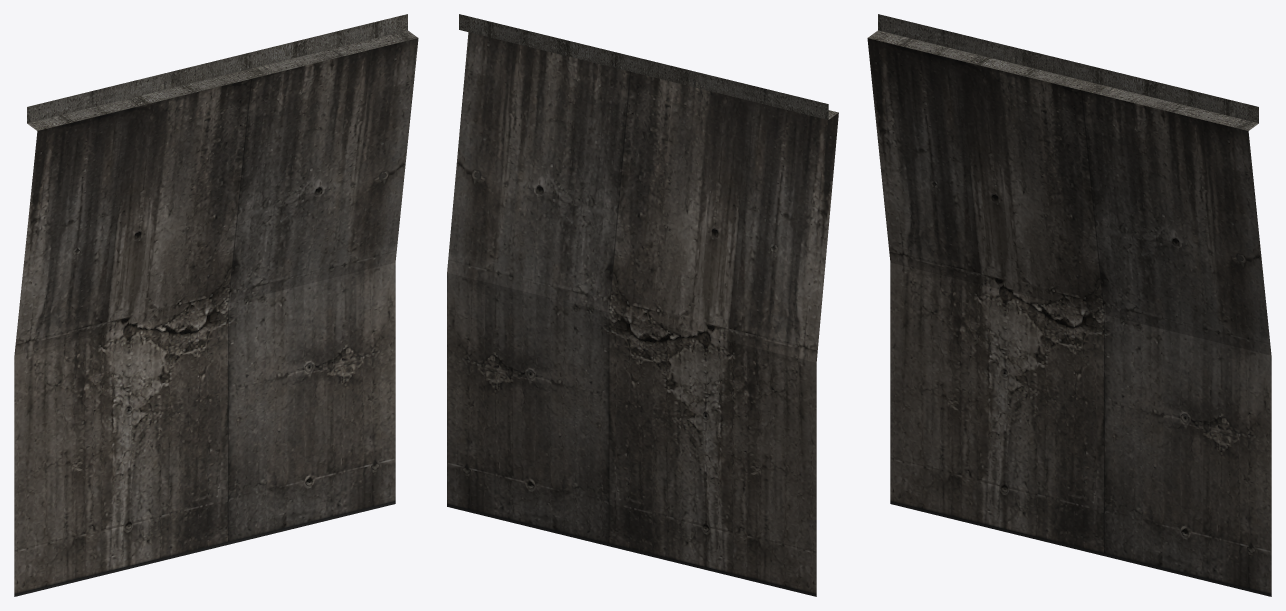
File: MidWall.fbx
3 renders of one model, left to right at view 1: azimuth 30°, elevation 25°; view 2: azimuth 150°, elevation 25°; view 3: azimuth 330°, elevation 25°, orthographic. The views are drawn at different scales.
Visible parts, largest first — view 1: MidWall; view 2: MidWall; view 3: MidWall.
Boxes of the visible parts, x1=… form: MidWall: x1=14, y1=14, x2=418, y2=596; MidWall: x1=447, y1=14, x2=838, y2=596; MidWall: x1=867, y1=14, x2=1271, y2=596.
Bounding box in the file's own units: 6.99 × 8.74 × 0.7285.
